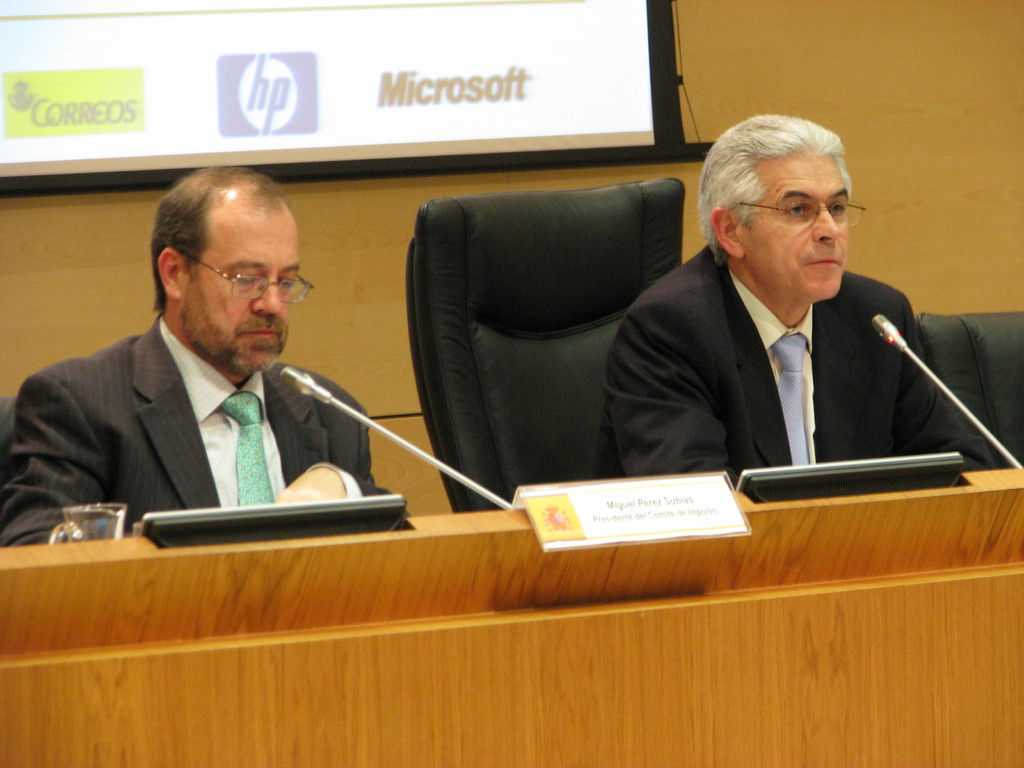Person: (0, 166, 410, 546), (590, 115, 994, 489)
